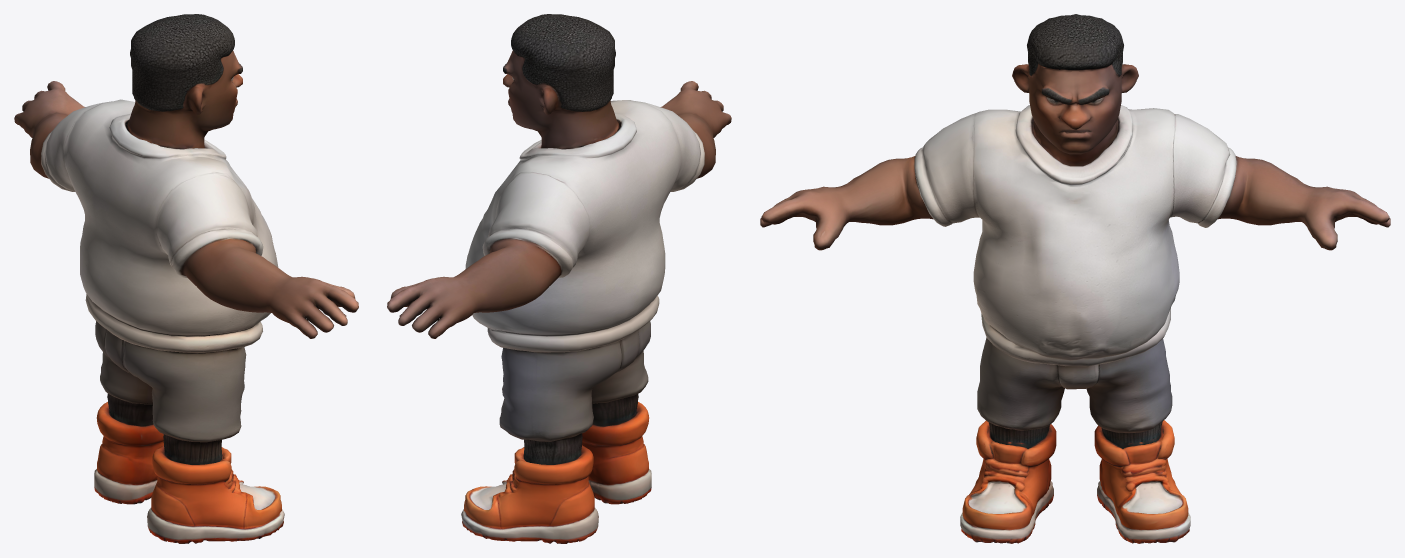
The picture shows the model from 3 angles, left to right: view 1: azimuth 30°, elevation 25°; view 2: azimuth 150°, elevation 25°; view 3: azimuth 270°, elevation 25°; orthographic projection. The views are drawn at different scales.
Visible parts, largest first — view 1: tripo_node_20e10ec6; view 2: tripo_node_20e10ec6; view 3: tripo_node_20e10ec6.
Part boxes in pixels (box(x1,y1,x2,y2)): tripo_node_20e10ec6: box(14, 14, 358, 543); tripo_node_20e10ec6: box(387, 14, 731, 543); tripo_node_20e10ec6: box(760, 14, 1390, 543).
Bounding box in the file's own units: 32.68 × 86.89 × 100.
Materials: 1 (1 with a texture image).
